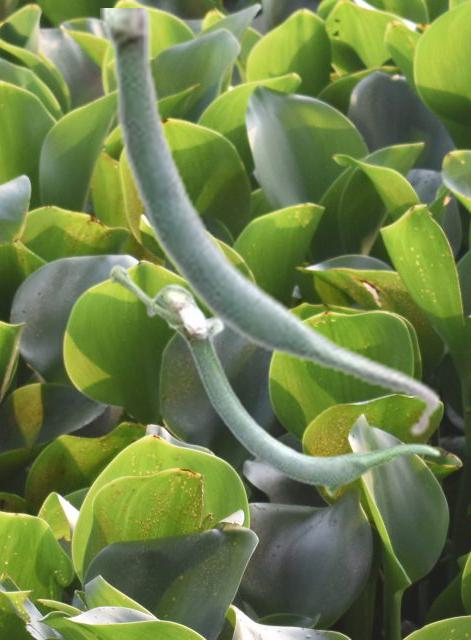french_bean: (100, 8, 441, 438), (108, 263, 440, 496)
